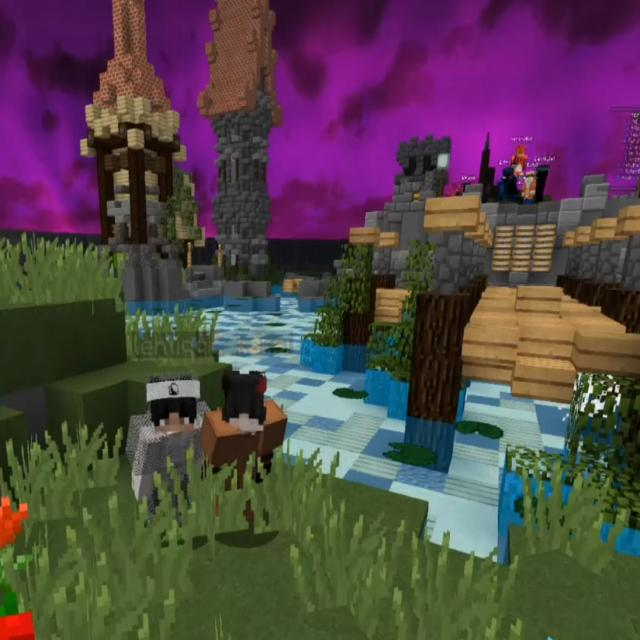Player: (128, 372, 206, 528), (204, 368, 288, 512)
